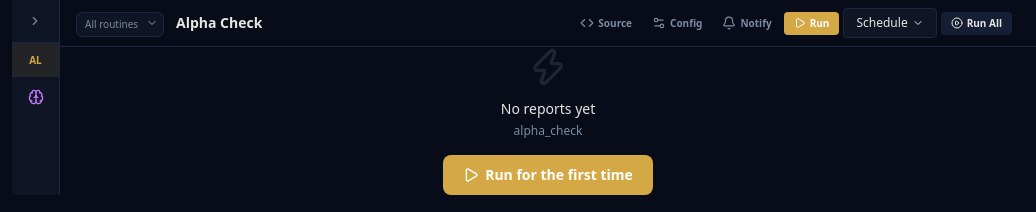
it: the library's scope picker › narrows the list, and takes the reader with it
Select "Scout" in the dropdown named "Routine scope" at (120, 24), box [76,12,164,36]
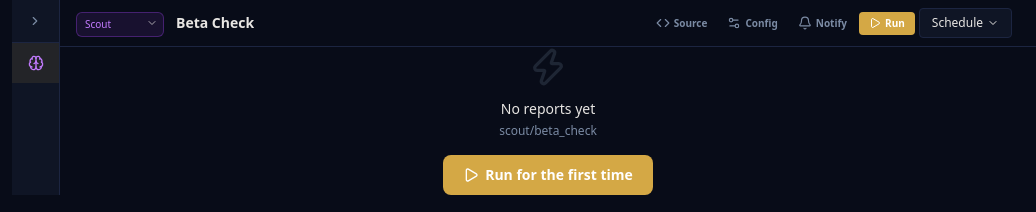
Result: the heading "Beta Check" is shown at [176,13,254,33]
